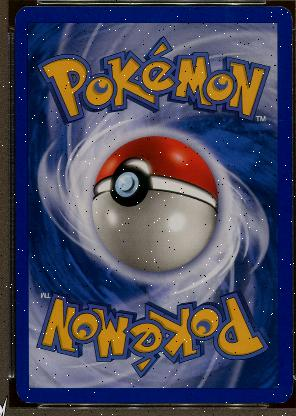Card: (13, 3, 293, 407)
Corner Wear: (16, 390, 38, 404), (260, 399, 284, 403)
